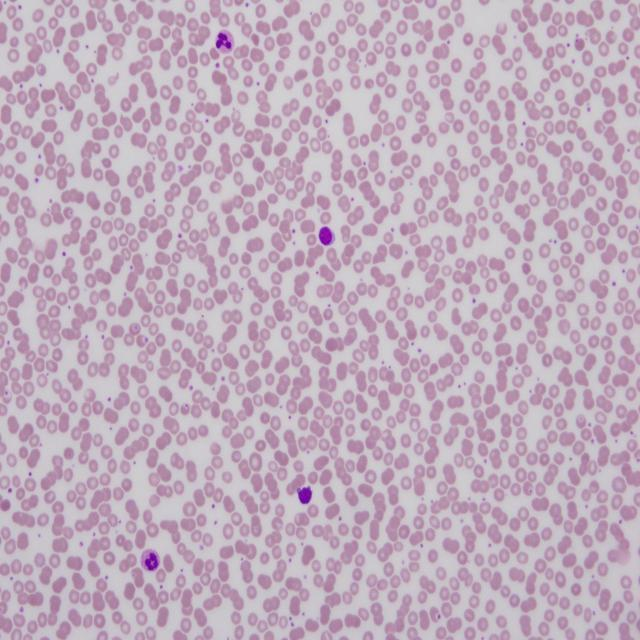cell: (215, 29, 234, 54), (141, 550, 160, 571)
